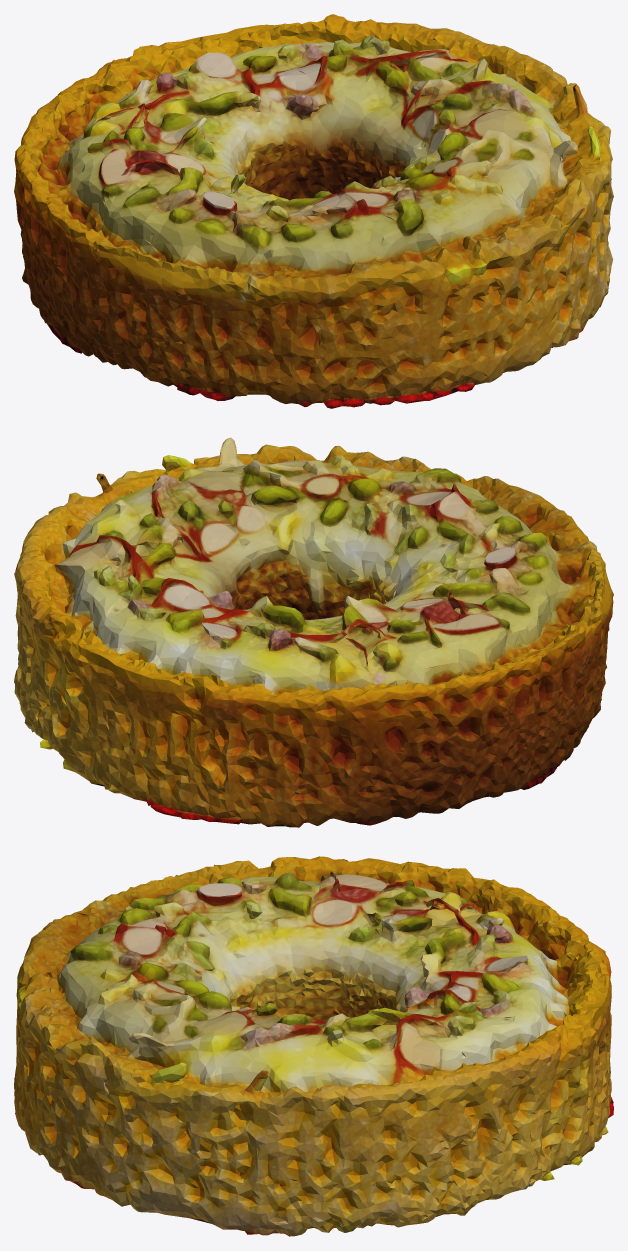
File: premium_ghewar_lowpoly.glb
3 renders of one model, top to bottom at view 1: azimuth 30°, elevation 25°; view 2: azimuth 150°, elevation 25°; view 3: azimuth 270°, elevation 25°, orthographic.
Visible parts, largest first — view 1: world; view 2: world; view 3: world.
Boxes of the visible parts, bbox=[...] form: world: bbox=[14, 14, 613, 408]; world: bbox=[14, 437, 613, 827]; world: bbox=[14, 856, 613, 1236].
Bounding box in the file's own units: 0.9963 × 0.3345 × 0.9968.
Materials: 1 (1 with a texture image).
